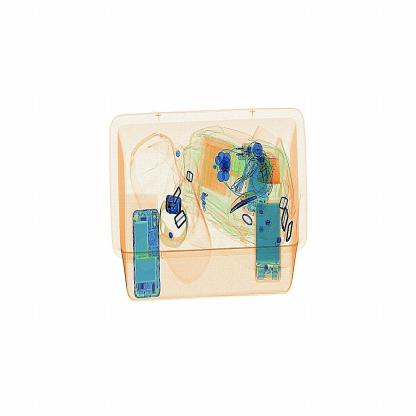pliers: (227, 189, 268, 221)
